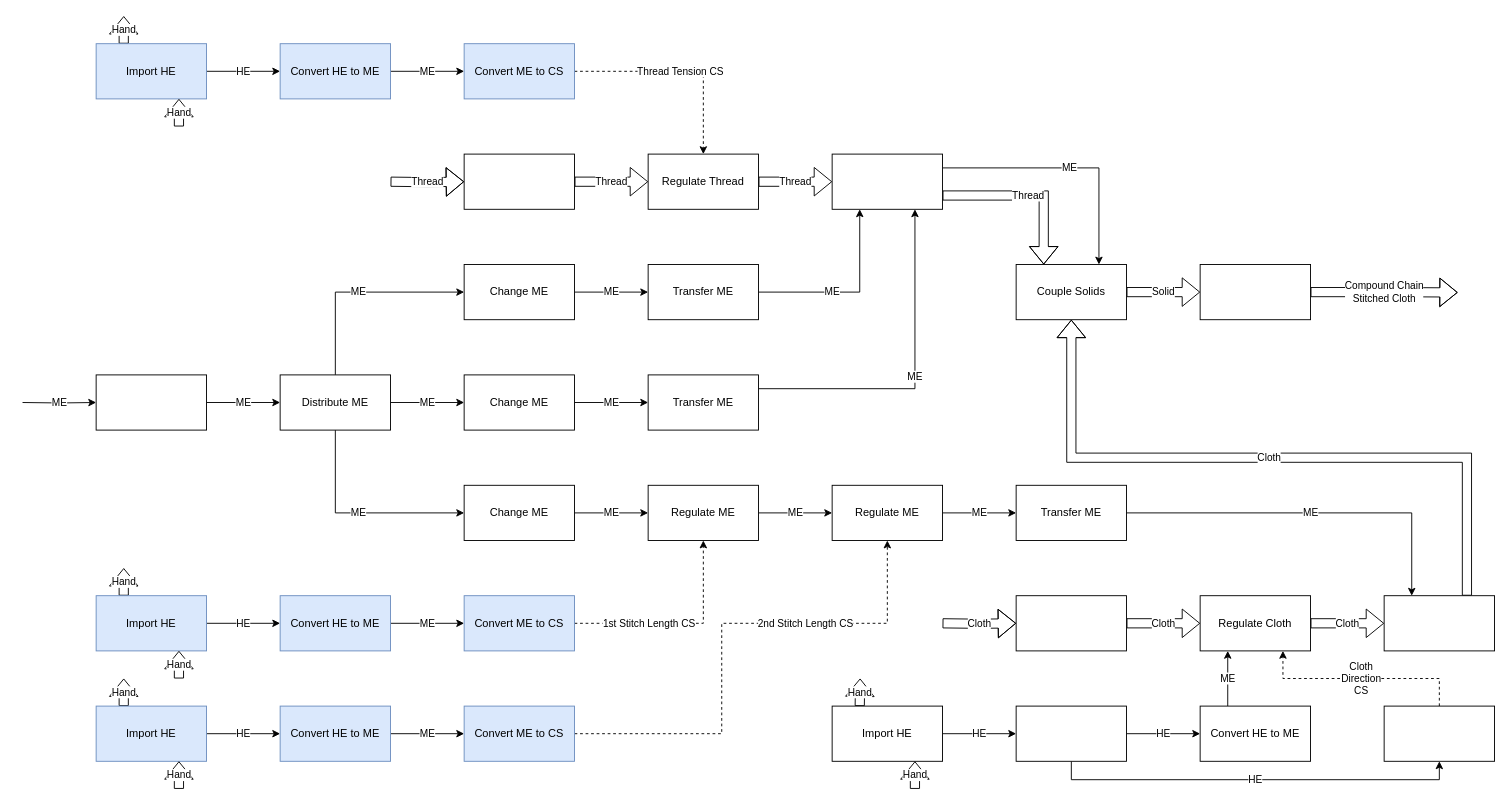
Image size: 1511x804. Some labels were removed from this diagram. The centre of each missing label's shape, as x and y in pixels:
Convert HE to CS: pixel 1439 733
Distribute HE: pixel 1071 733
Export Solid: pixel 1255 292
Guide Cloth: pixel 1439 623
Guide Thread: pixel 887 181
Import Cloth: pixel 1071 623
Import ME: pixel 151 402
Import Thread: pixel 519 181
